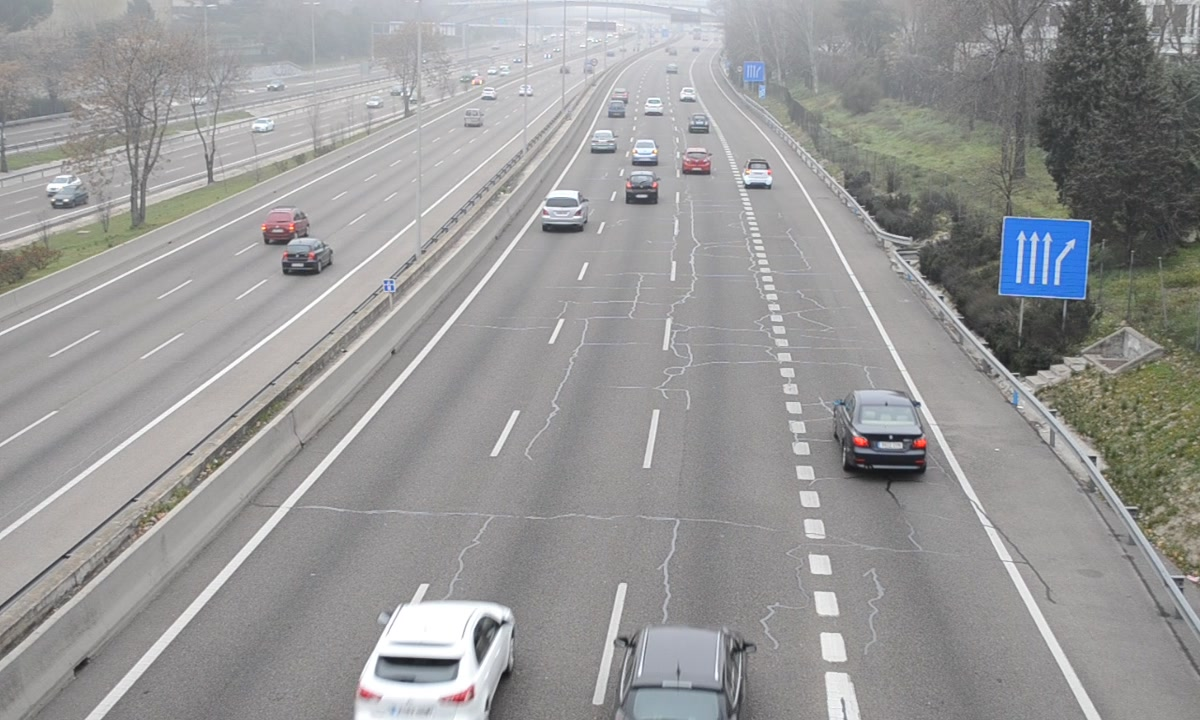car: (349, 599, 516, 718), (615, 624, 747, 720), (832, 387, 933, 474), (540, 189, 589, 230), (623, 171, 660, 207), (741, 157, 774, 190), (681, 147, 713, 177), (588, 130, 619, 155), (631, 139, 658, 166), (687, 113, 710, 134)
